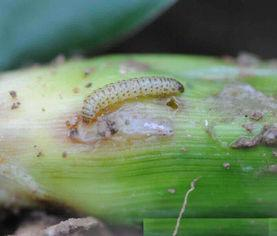caterpillars: (64, 63, 193, 132)
